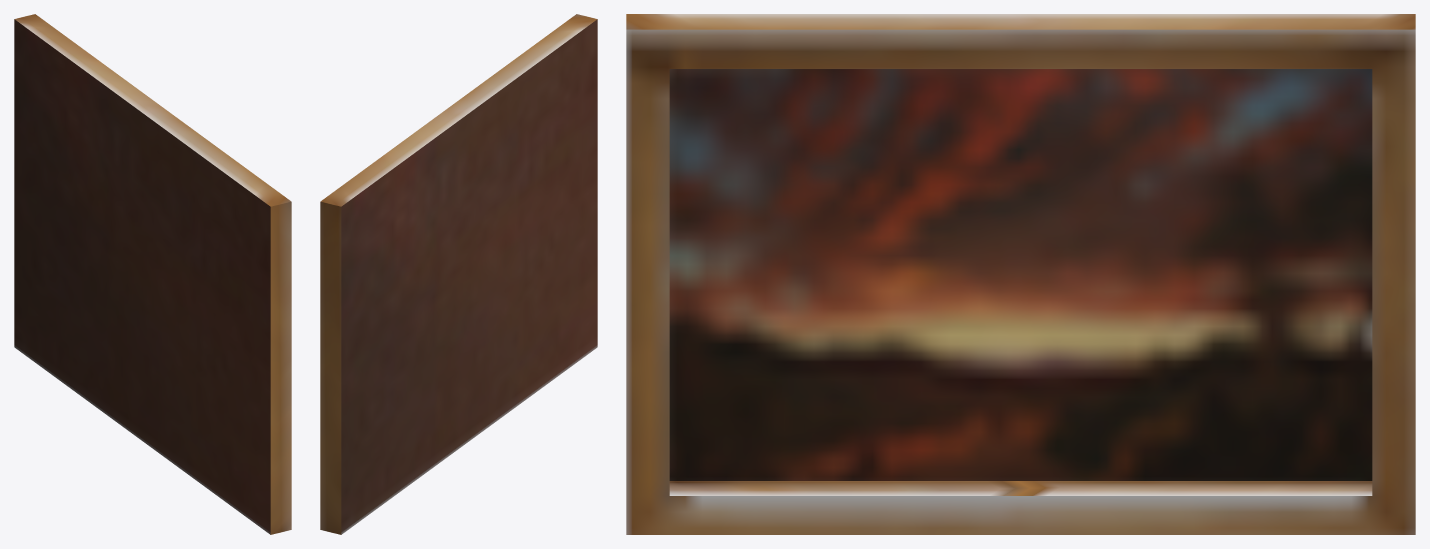
File: Picture.fbx
3 renders of one model, left to right at view 1: azimuth 30°, elevation 25°; view 2: azimuth 150°, elevation 25°; view 3: azimuth 270°, elevation 25°, orthographic. The views are drawn at different scales.
Parts seen in each view (by area): view 1: Cube; view 2: Cube; view 3: Cube.
Boxes of the visible parts, left/top/right/bottom form: Cube: left=14, top=14, right=291, bottom=534; Cube: left=320, top=14, right=597, bottom=534; Cube: left=626, top=14, right=1415, bottom=534.
Bounding box in the file's own units: 9.45 × 141 × 200.
